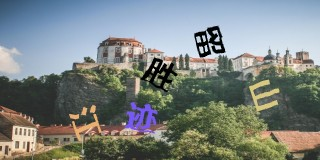山: (248, 78, 282, 112)
江: (67, 103, 103, 140)
留: (193, 25, 227, 59)
胜: (139, 56, 179, 94)
迹: (125, 101, 161, 133)
